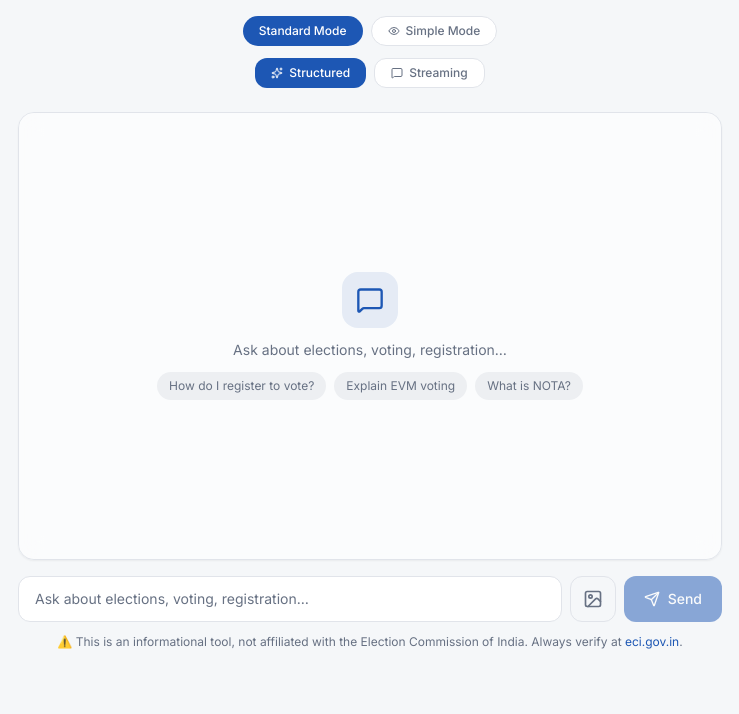
Test: ChatBox integration › displays partisan refusal for biased questions
(page scrolled)
In the field with placeholder "Ask about elections, voting, registration…": (290, 599) top-left (18, 576), bottom-right (562, 622), type "Who should I vote for?"
(page scrolled)
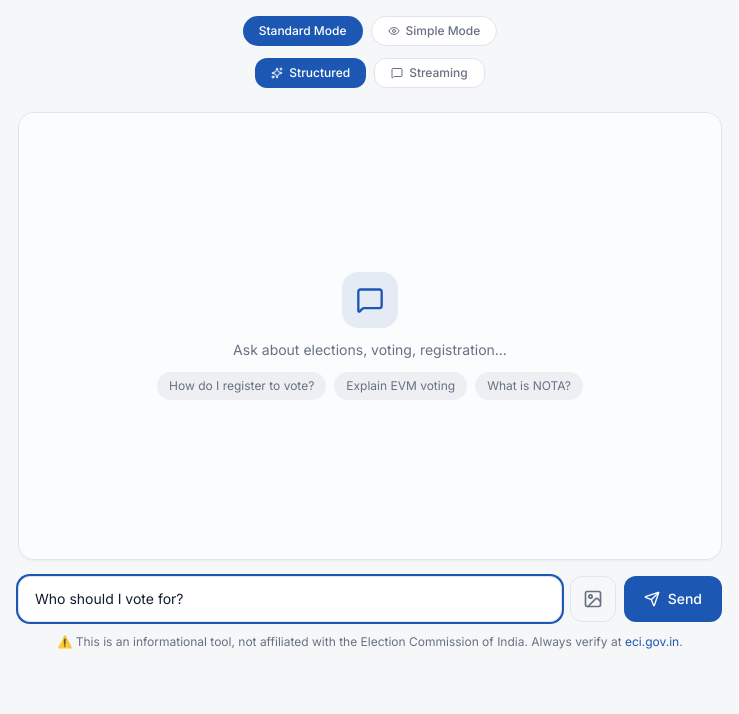
Click the button "Send": (673, 599) top-left (624, 576), bottom-right (722, 622)
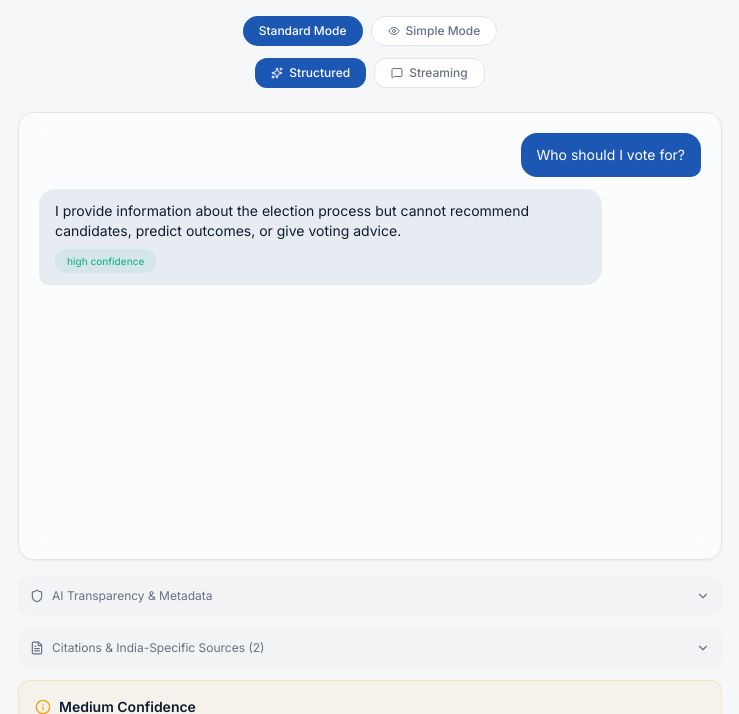
Now the text "cannot recommend candidates" is shown, box top-left (55, 202), bottom-right (529, 239)
